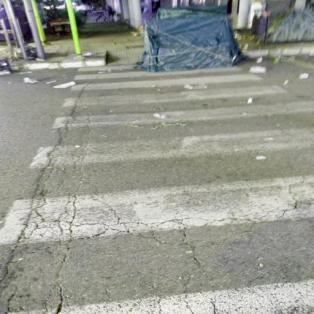Paso de Cebra: (57, 71, 286, 112)
